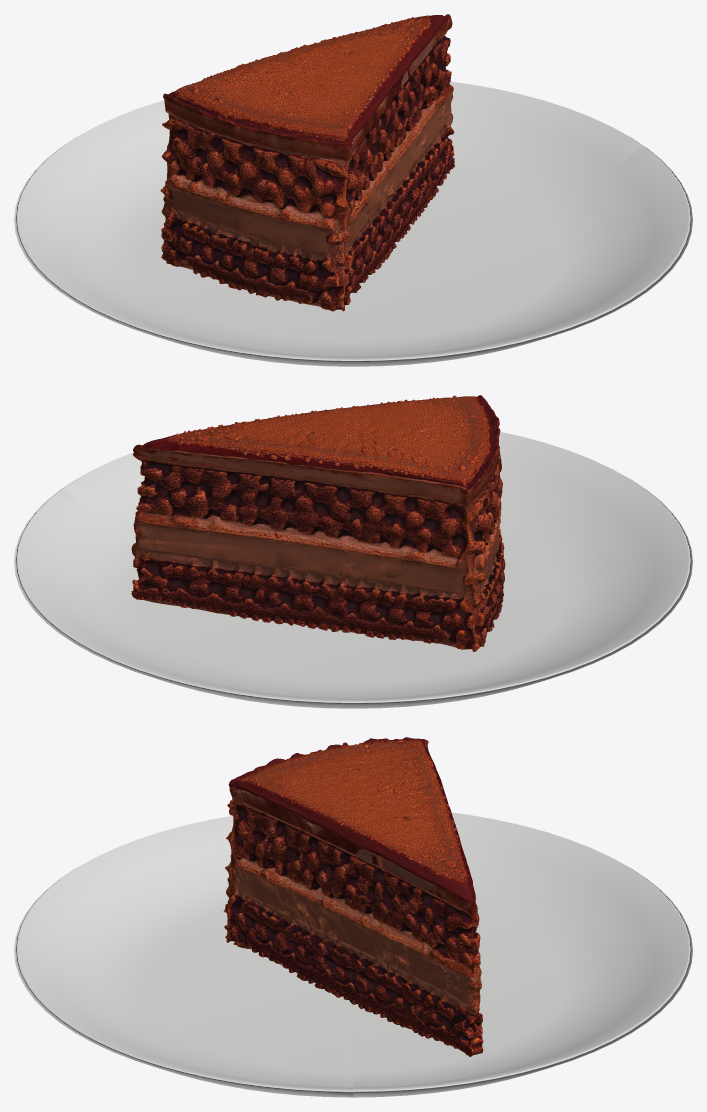
The model's file is pastel_0.glb.
3 views of the same model, one above another, from view 1: azimuth 30°, elevation 25°; view 2: azimuth 150°, elevation 25°; view 3: azimuth 270°, elevation 25° (orthographic).
Visible parts, largest first — view 1: plato, tripo_node_424df489-dc50-4736-9e20-6e79c28d7e29; view 2: plato, tripo_node_424df489-dc50-4736-9e20-6e79c28d7e29; view 3: plato, tripo_node_424df489-dc50-4736-9e20-6e79c28d7e29.
Boxes of the visible parts, x1,y1,x2,y2 form: plato: (14,81,692,366); tripo_node_424df489-dc50-4736-9e20-6e79c28d7e29: (160,14,454,311); plato: (14,432,692,708); tripo_node_424df489-dc50-4736-9e20-6e79c28d7e29: (131,395,505,651); plato: (14,812,692,1097); tripo_node_424df489-dc50-4736-9e20-6e79c28d7e29: (223,737,483,1056).
Size of the model in its own units: 0.274 by 0.0861 by 0.274.
2 materials, 1 textured.
